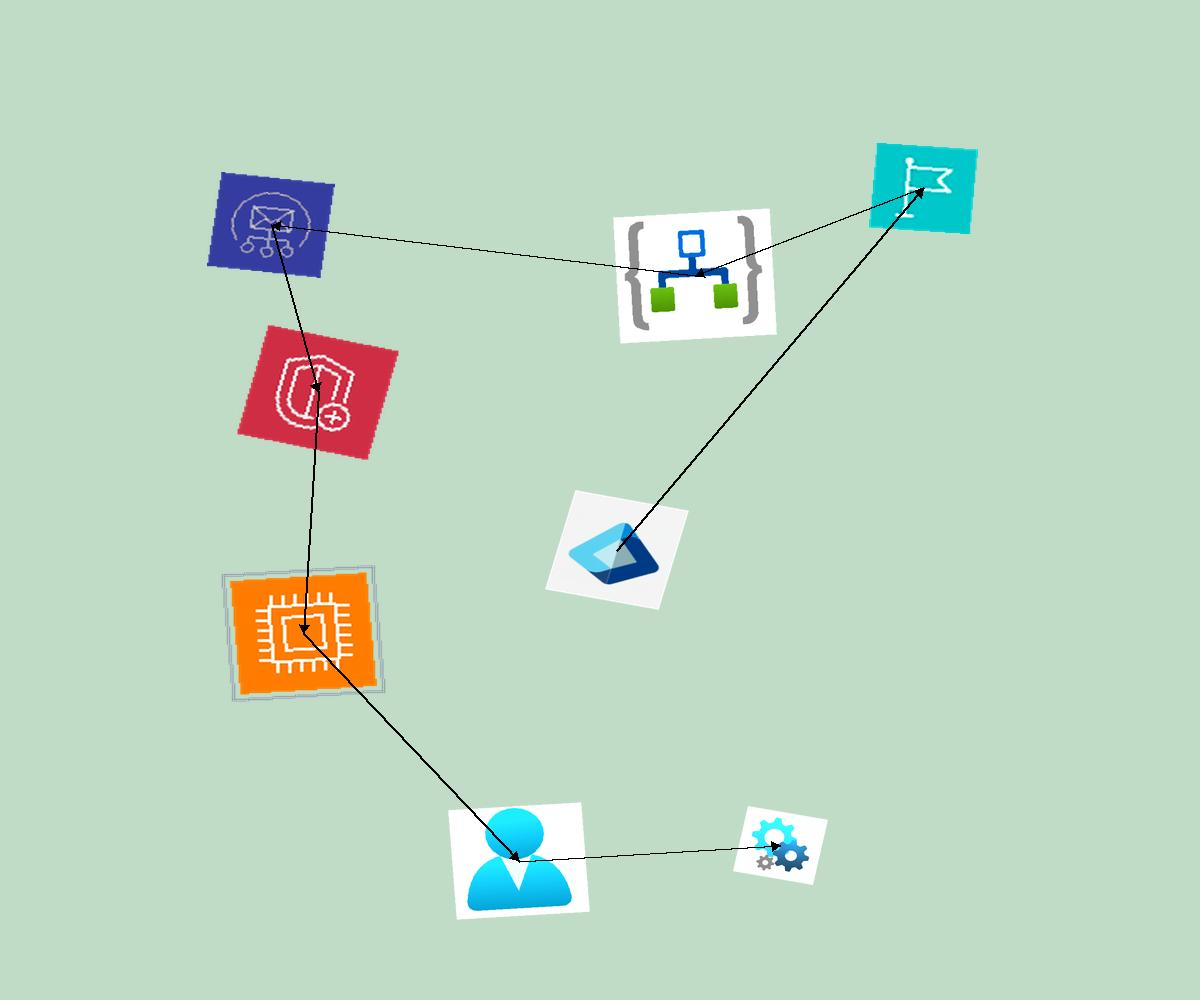AWS-Category_Compute: (220, 564, 387, 703)
AWS-Region: (868, 142, 979, 235)
AWS-Shield: (236, 324, 400, 461)
AWS-Simple-Email-Service: (207, 172, 335, 278)
Azure_api: (733, 806, 828, 885)
Azure_integration-204-Logic-Apps: (613, 208, 777, 344)
Azure_microsoft_entra: (545, 490, 689, 610)
Azure_users: (448, 802, 590, 920)
